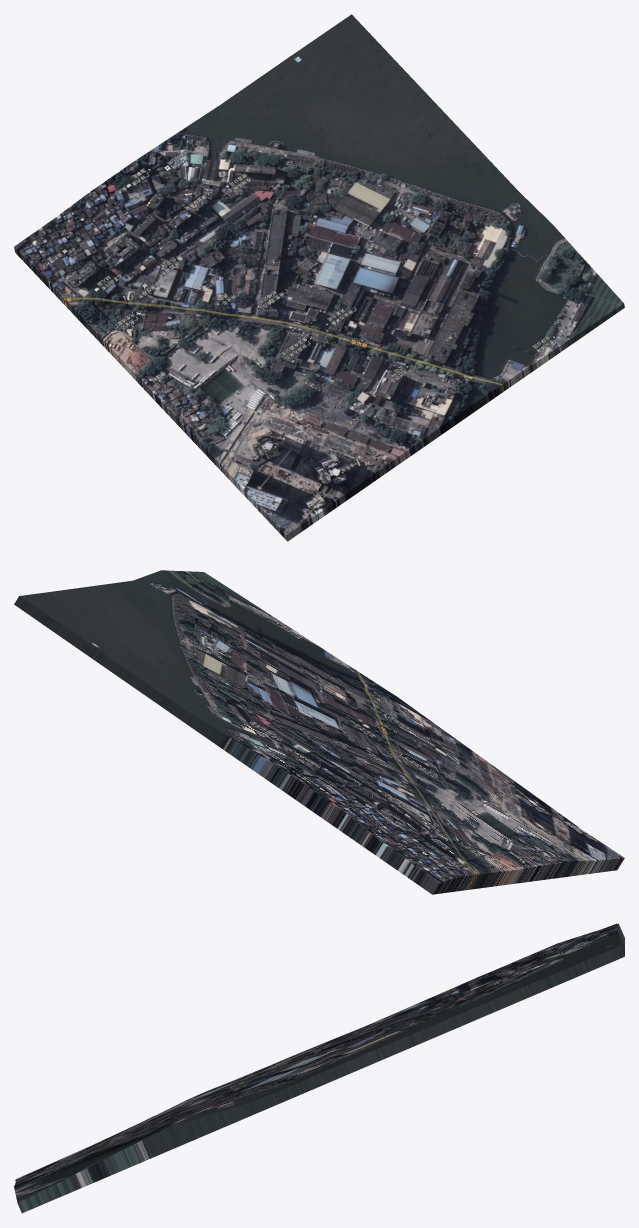
The picture shows the model from 3 angles, top to bottom: view 1: azimuth 30°, elevation 25°; view 2: azimuth 150°, elevation 25°; view 3: azimuth 270°, elevation 25°; orthographic projection. The views are drawn at different scales.
Visible parts, largest first — view 1: 0_19_10; view 2: 0_19_10; view 3: 0_19_10.
Boxes of the visible parts, box(x1,y1,x2,y2) form: 0_19_10: box(14, 14, 624, 541); 0_19_10: box(14, 570, 624, 894); 0_19_10: box(14, 923, 624, 1213).
Bounding box in the file's own units: 597 × 436 × 549.
Materials: 1 (1 with a texture image).
